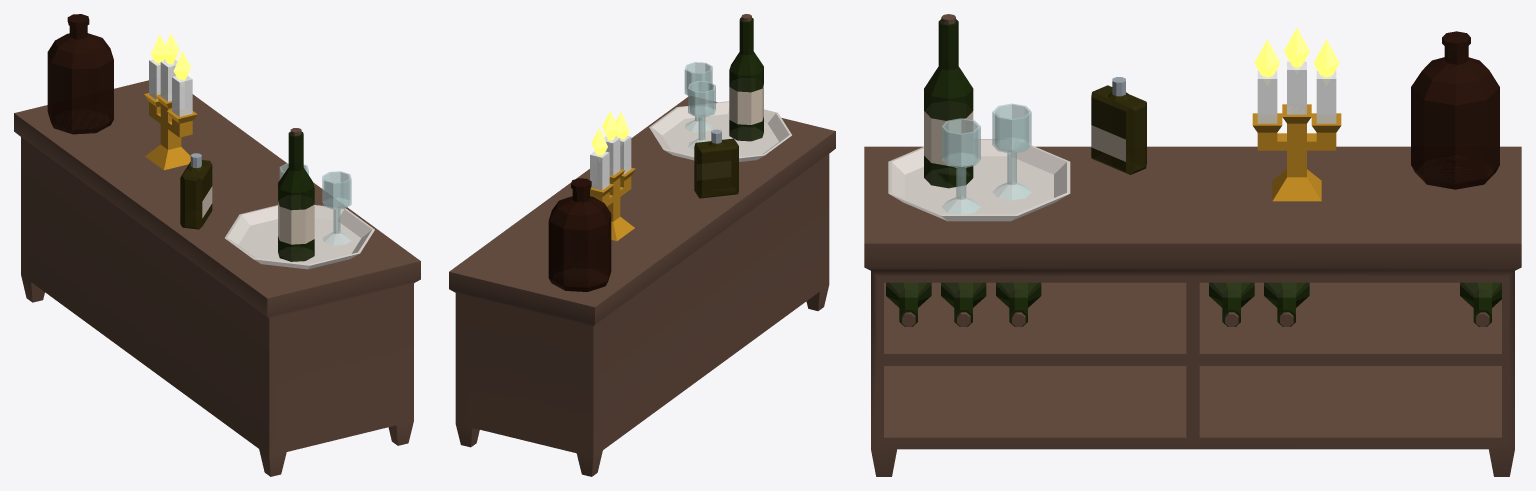
Rendered from vinos.fbx.
3 views of the same model, side by side, from view 1: azimuth 30°, elevation 25°; view 2: azimuth 150°, elevation 25°; view 3: azimuth 270°, elevation 25° (orthographic). The views are drawn at different scales.
Visible parts, largest first — view 1: Shelf_2x1x1_proxy.001_0, Shelf_2x1x1_proxy.001_2, Shelf_2x1x1_proxy.001_8, Shelf_2x1x1_proxy.001_3, Shelf_2x1x1_proxy.001_5, Shelf_2x1x1_proxy.001_9, Shelf_2x1x1_proxy.001_6, Shelf_2x1x1_proxy.001_1, Shelf_2x1x1_proxy.001_4, Shelf_2x1x1_proxy.001_7; view 2: Shelf_2x1x1_proxy.001_0, Shelf_2x1x1_proxy.001_2, Shelf_2x1x1_proxy.001_8, Shelf_2x1x1_proxy.001_9, Shelf_2x1x1_proxy.001_3, Shelf_2x1x1_proxy.001_1, Shelf_2x1x1_proxy.001_6, Shelf_2x1x1_proxy.001_5, Shelf_2x1x1_proxy.001_4, Shelf_2x1x1_proxy.001_7; view 3: Shelf_2x1x1_proxy.001_0, Shelf_2x1x1_proxy.001_3, Shelf_2x1x1_proxy.001_2, Shelf_2x1x1_proxy.001_8, Shelf_2x1x1_proxy.001_1, Shelf_2x1x1_proxy.001_5, Shelf_2x1x1_proxy.001_9, Shelf_2x1x1_proxy.001_6, Shelf_2x1x1_proxy.001_4, Shelf_2x1x1_proxy.001_7.
Boxes of the visible parts, bbox=[...] form: Shelf_2x1x1_proxy.001_0: bbox=[14, 80, 420, 476]; Shelf_2x1x1_proxy.001_2: bbox=[47, 14, 113, 134]; Shelf_2x1x1_proxy.001_8: bbox=[225, 205, 374, 269]; Shelf_2x1x1_proxy.001_3: bbox=[278, 132, 314, 261]; Shelf_2x1x1_proxy.001_5: bbox=[144, 93, 197, 170]; Shelf_2x1x1_proxy.001_9: bbox=[180, 160, 212, 229]; Shelf_2x1x1_proxy.001_6: bbox=[149, 59, 192, 116]; Shelf_2x1x1_proxy.001_1: bbox=[279, 163, 351, 245]; Shelf_2x1x1_proxy.001_4: bbox=[202, 186, 314, 244]; Shelf_2x1x1_proxy.001_7: bbox=[151, 33, 190, 79]; Shelf_2x1x1_proxy.001_0: bbox=[449, 14, 835, 476]; Shelf_2x1x1_proxy.001_2: bbox=[548, 178, 611, 291]; Shelf_2x1x1_proxy.001_8: bbox=[649, 101, 791, 161]; Shelf_2x1x1_proxy.001_9: bbox=[694, 138, 738, 198]; Shelf_2x1x1_proxy.001_3: bbox=[729, 18, 763, 141]; Shelf_2x1x1_proxy.001_1: bbox=[684, 62, 715, 150]; Shelf_2x1x1_proxy.001_6: bbox=[590, 135, 631, 190]; Shelf_2x1x1_proxy.001_5: bbox=[590, 167, 635, 240]; Shelf_2x1x1_proxy.001_4: bbox=[729, 84, 763, 124]; Shelf_2x1x1_proxy.001_7: bbox=[591, 111, 629, 155]; Shelf_2x1x1_proxy.001_0: bbox=[864, 14, 1521, 476]; Shelf_2x1x1_proxy.001_3: bbox=[886, 19, 1501, 326]; Shelf_2x1x1_proxy.001_2: bbox=[1411, 31, 1499, 189]; Shelf_2x1x1_proxy.001_8: bbox=[888, 139, 1070, 221]; Shelf_2x1x1_proxy.001_1: bbox=[941, 103, 1031, 214]; Shelf_2x1x1_proxy.001_5: bbox=[1252, 104, 1341, 201]; Shelf_2x1x1_proxy.001_9: bbox=[1091, 85, 1146, 174]; Shelf_2x1x1_proxy.001_6: bbox=[1257, 61, 1336, 123]; Shelf_2x1x1_proxy.001_4: bbox=[924, 111, 1125, 165]; Shelf_2x1x1_proxy.001_7: bbox=[1254, 27, 1339, 77].
Bounding box in the file's own units: 70 × 136 × 200.
